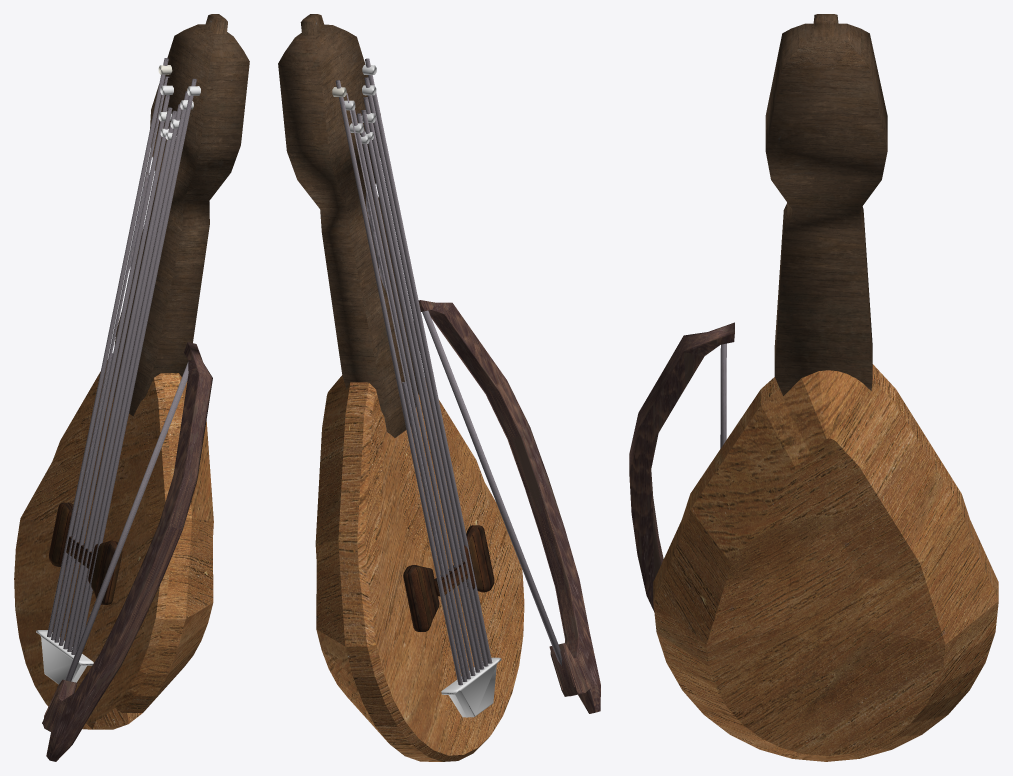
Rendered from gydulka.fbx.
3 views of the same model, side by side, from view 1: azimuth 30°, elevation 25°; view 2: azimuth 150°, elevation 25°; view 3: azimuth 270°, elevation 25° (orthographic). The views are drawn at different scales.
Parts seen in each view (by area): view 1: Cylinder.016, Cylinder.010, Cylinder.019, Cube.018, Plane.014, Cylinder.011, Plane.023; view 2: Cylinder.016, Cylinder.010, Cylinder.019, Cube.018, Plane.014, Cylinder.011, Plane.023; view 3: Cylinder.016, Cylinder.010, Cube.018, Cylinder.011.
Part boxes in pixels (x1=…): Cylinder.016: x1=14, y1=360, x2=213, y2=729; Cylinder.010: x1=110, y1=14, x2=249, y2=416; Cylinder.019: x1=47, y1=58, x2=196, y2=654; Cube.018: x1=42, y1=342, x2=212, y2=761; Plane.014: x1=49, y1=502, x2=122, y2=604; Cylinder.011: x1=65, y1=362, x2=188, y2=681; Plane.023: x1=36, y1=630, x2=93, y2=684; Cylinder.016: x1=315, y1=375, x2=524, y2=761; Cylinder.010: x1=278, y1=14, x2=419, y2=437; Cylinder.019: x1=335, y1=58, x2=492, y2=685; Cube.018: x1=418, y1=300, x2=600, y2=713; Plane.014: x1=403, y1=525, x2=494, y2=631; Cylinder.011: x1=422, y1=310, x2=561, y2=665; Plane.023: x1=441, y1=657, x2=501, y2=717; Cylinder.016: x1=653, y1=364, x2=998, y2=761; Cylinder.010: x1=765, y1=14, x2=887, y2=395; Cube.018: x1=629, y1=322, x2=734, y2=611; Cylinder.011: x1=720, y1=343, x2=726, y2=448.
Size of the model in its own units: 27.95 by 75.97 by 30.8.
